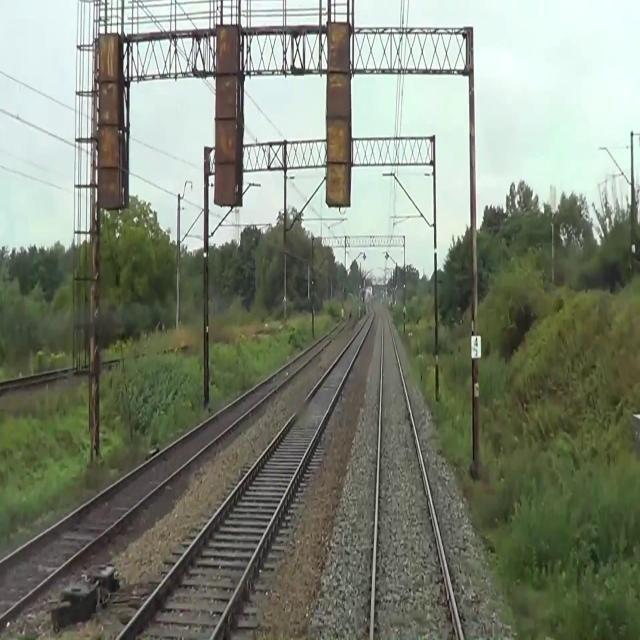rail-track: (0, 318, 348, 613), (122, 301, 373, 639), (375, 311, 460, 639)
